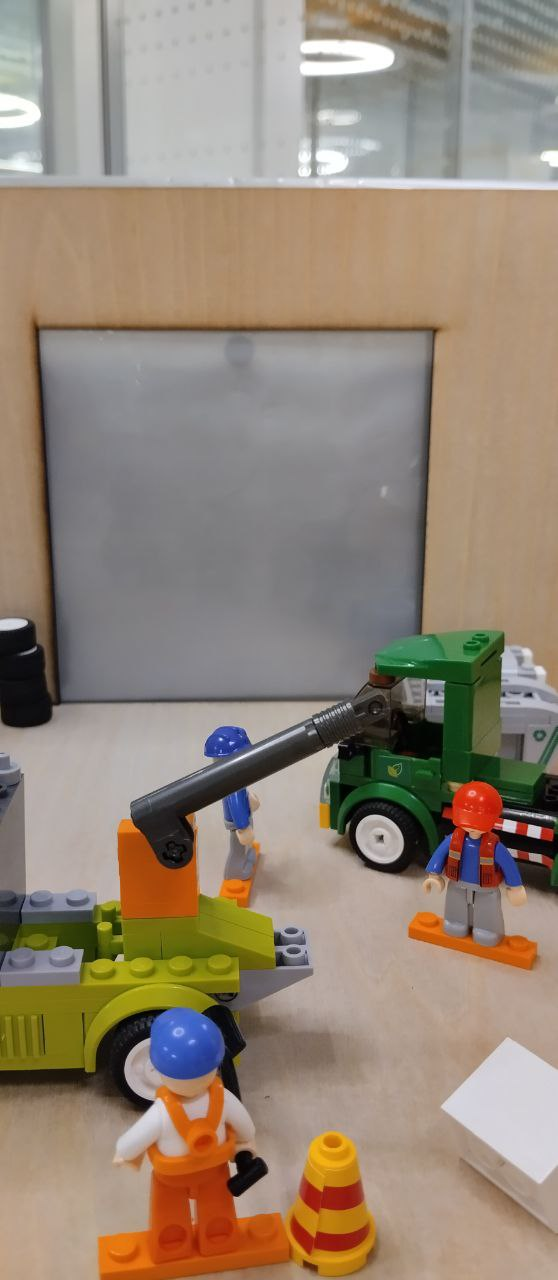Cone: (284, 1134, 378, 1275)
Crane: (1, 691, 395, 1107)
Object white: (436, 1036, 558, 1236)
Truck: (331, 628, 558, 896)
